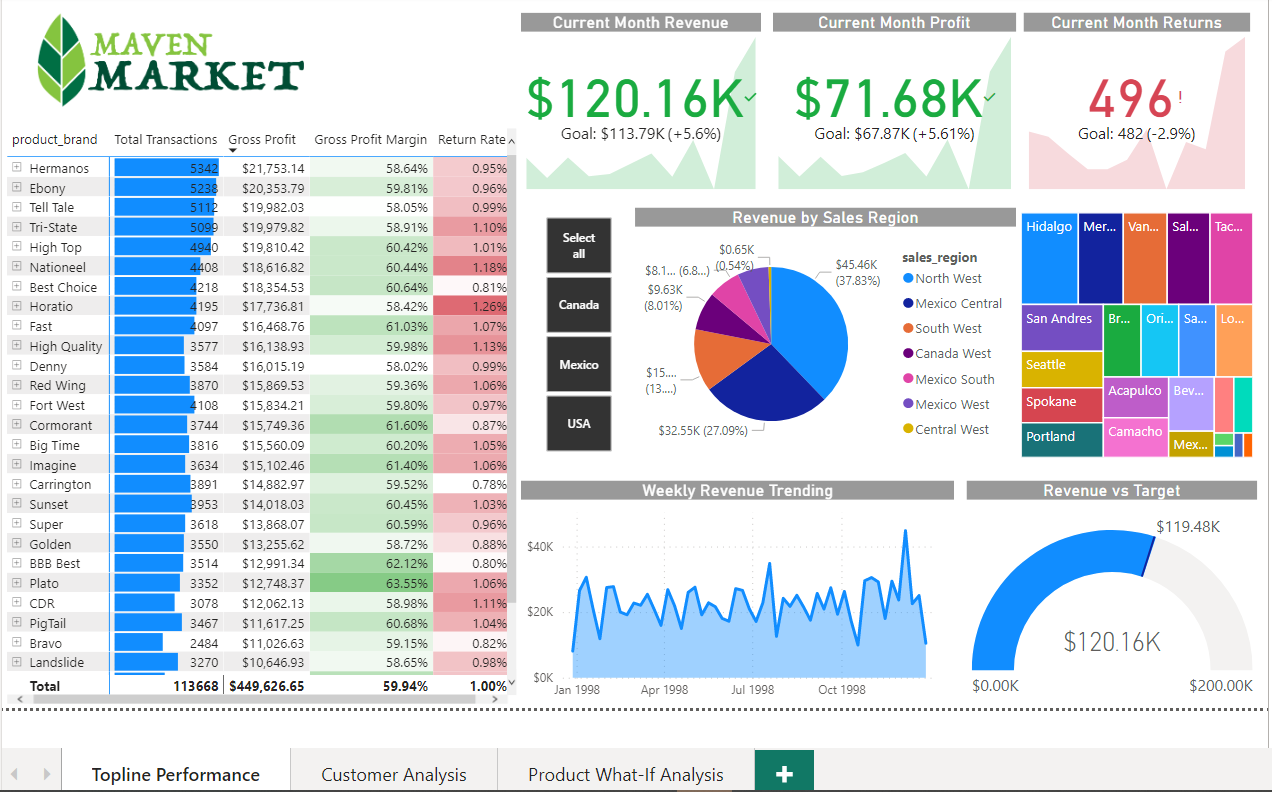

The page's visual inventory and layout, read from the dashboard file:
{"tool":"powerbi","page":{"name":"Topline Performance","canvas":[1280,720],"ordinal":0},"visuals":[{"type":"image","box":[22.7,0,292.7,128.9],"z":0},{"type":"pivotTable","fields":{"Values":["Transaction_Data.Total Transactions","Transaction_Data.Total Profit","Transaction_Data.Profit Margin","Return_Data.Return Rate"],"Rows":["Products.product_brand","Products.product_name"]},"box":[0,128.9,524.7,591.5],"z":1000},{"type":"kpi","title":"Current Month Revenue","fields":{"TrendLine":["Calendar.Start of Month"],"Goal":["Transaction_Data.Last Month Revenue"],"Indicator":["Transaction_Data.Total Revenue"]},"box":[524.7,16.7,242.7,183.5],"z":2000},{"type":"kpi","title":"Current Month Profit","fields":{"TrendLine":["Calendar.Start of Month"],"Goal":["Transaction_Data.Last Month Profit"],"Indicator":["Transaction_Data.Total Profit"]},"box":[779.5,16.7,245.7,183.5],"z":3000},{"type":"kpi","title":"Current Month Returns","fields":{"TrendLine":["Calendar.Start of Month"],"Goal":["Return_Data.Last Month Returns"],"Indicator":["Return_Data.Total Returns"]},"box":[1032.8,16.7,229,183.5],"z":4000},{"type":"pieChart","title":"Revenue by Sales Region","fields":{"Y":["Transaction_Data.Total Revenue"],"Category":["Regions.sales_region"]},"box":[640,213.8,385.2,256.3],"z":5000},{"type":"slicer","fields":{"Values":["Stores.store_country"]},"box":[524.7,216.9,115.3,250.2],"z":6000},{"type":"treemap","fields":{"Group":["Stores.store_country","Stores.store_state","Stores.store_city"],"Values":["Transaction_Data.Total Revenue"]},"box":[1025.2,213.8,244.2,257.8],"z":7000},{"type":"stackedAreaChart","title":"Weekly Revenue Trending","fields":{"Category":["Calendar.Start of Week"],"Y":["Transaction_Data.Total Revenue"]},"box":[524.7,489.9,438.3,230.5],"z":8000},{"type":"gauge","title":"Revenue vs Target","fields":{"Y":["Transaction_Data.Total Revenue"],"TargetValue":["Transaction_Data.Revenue Target"]},"box":[975.2,489.9,294.2,230.5],"z":9000}]}

Visuals, with their boxes on the page's 1280x720 design canvas (x1, y1, x2, y2). These are canvas units, not pixel positions in the 1272x792 screenshot, which may show the page scaled, cropped or inside an application window:
image: 23:0:315:129
pivotTable - Transaction_Data.Total Transactions x Transaction_Data.Total Profit: 0:129:525:720
"Current Month Revenue" kpi: 525:17:767:200
"Current Month Profit" kpi: 780:17:1025:200
"Current Month Returns" kpi: 1033:17:1262:200
"Revenue by Sales Region" pieChart: 640:214:1025:470
slicer - Stores.store_country: 525:217:640:467
treemap - Stores.store_country x Stores.store_state: 1025:214:1269:472
"Weekly Revenue Trending" stackedAreaChart: 525:490:963:720
"Revenue vs Target" gauge: 975:490:1269:720
